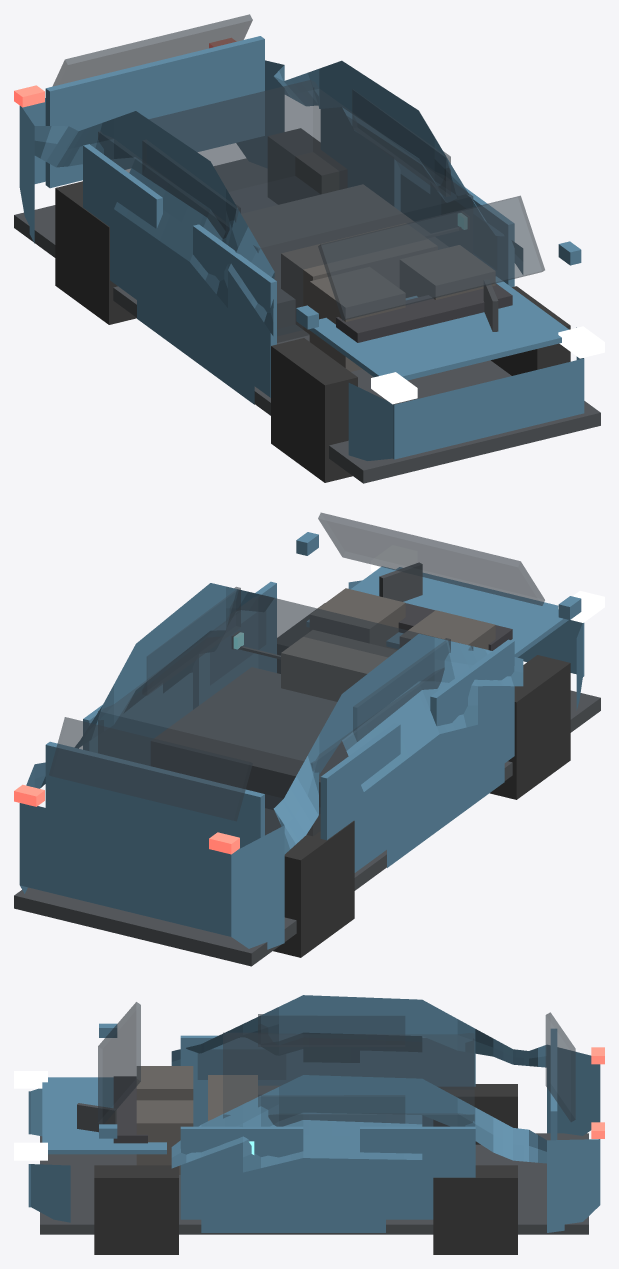
File: suv_lod2.00ef3caa6d.glb
The picture shows the model from 3 angles, top to bottom: view 1: azimuth 30°, elevation 25°; view 2: azimuth 150°, elevation 25°; view 3: azimuth 270°, elevation 25°; orthographic projection. The views are drawn at different scales.
Visible parts, largest first — view 1: body_mesh, cab_mesh, windshield, liftgate_mesh, trim_mesh, frunk_mesh, tire_fr, wheel_well_mesh, tire_rr, seat_rear, door_rr_mesh, rear_glass (+12 smaller); view 2: body_mesh, cab_mesh, wheel_well_mesh, liftgate_mesh, rear_glass, trim_mesh, windshield, tire_rr, tire_fr, door_rr_mesh, frunk_mesh, seat_rear (+12 smaller); view 3: body_mesh, cab_mesh, trim_mesh, tire_fl, door_rl_mesh, tire_rl, frunk_mesh, door_fr_mesh, window_fixed_r, door_fl_mesh, door_rr_mesh, window_fixed_l (+12 smaller).
Boxes of the visible parts, x1=… form: body_mesh: x1=19, y1=60, x2=584, y2=460; cab_mesh: x1=98, y1=80, x2=473, y2=336; windshield: x1=318, y1=195, x2=544, y2=320; liftgate_mesh: x1=45, y1=36, x2=264, y2=188; trim_mesh: x1=14, y1=158, x2=600, y2=483; frunk_mesh: x1=309, y1=276, x2=568, y2=380; tire_fr: x1=271, y1=338, x2=357, y2=482; wheel_well_mesh: x1=241, y1=184, x2=447, y2=342; tire_rr: x1=55, y1=181, x2=136, y2=324; seat_rear: x1=281, y1=223, x2=437, y2=334; door_rr_mesh: x1=83, y1=144, x2=162, y2=299; rear_glass: x1=52, y1=14, x2=252, y2=86; body_mesh: x1=19, y1=580, x2=584, y2=949; cab_mesh: x1=98, y1=595, x2=473, y2=835; wheel_well_mesh: x1=151, y1=667, x2=348, y2=813; liftgate_mesh: x1=45, y1=741, x2=264, y2=848; rear_glass: x1=49, y1=717, x2=252, y2=821; trim_mesh: x1=14, y1=690, x2=600, y2=966; windshield: x1=318, y1=512, x2=544, y2=605; tire_rr: x1=273, y1=814, x2=354, y2=957; tire_fr: x1=490, y1=655, x2=570, y2=799; door_rr_mesh: x1=320, y1=723, x2=400, y2=872; frunk_mesh: x1=306, y1=566, x2=568, y2=657; seat_rear: x1=281, y1=630, x2=396, y2=701; body_mesh: x1=28, y1=995, x2=600, y2=1232; cab_mesh: x1=223, y1=1032, x2=474, y2=1126; trim_mesh: x1=40, y1=1133, x2=588, y2=1234; tire_fl: x1=94, y1=1165, x2=178, y2=1254; door_rl_mesh: x1=360, y1=1126, x2=475, y2=1219; tire_rl: x1=433, y1=1165, x2=517, y2=1254; frunk_mesh: x1=42, y1=1077, x2=166, y2=1154; door_fr_mesh: x1=180, y1=1035, x2=302, y2=1126; window_fixed_r: x1=258, y1=1014, x2=404, y2=1046; door_fl_mesh: x1=180, y1=1126, x2=303, y2=1219; door_rr_mesh: x1=360, y1=1036, x2=475, y2=1126; window_fixed_l: x1=258, y1=1094, x2=404, y2=1126.
Size of the model in its own units: 2.19 by 1.68 by 5.21.
